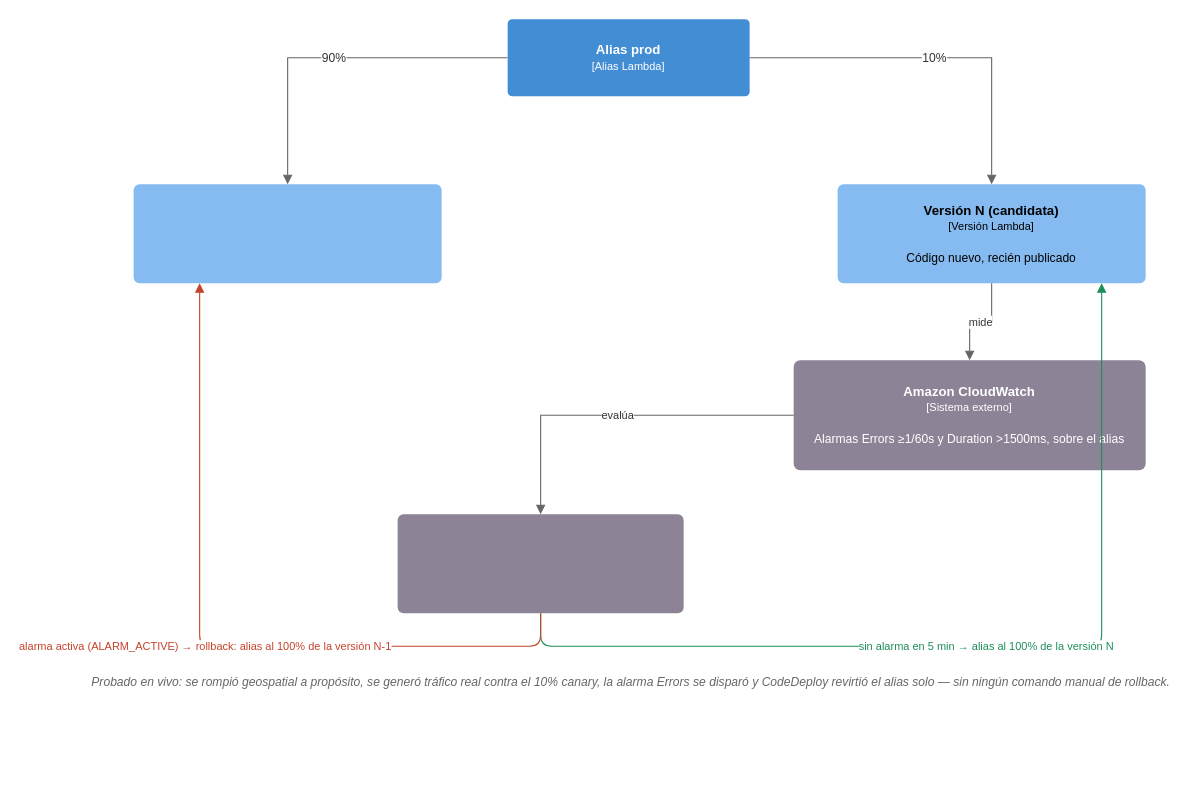
Image size: 1189x785. Some labels were removed from this diagram. Each missing label, with the centre of its shape:
AWS CodeDeploy [Sistema externo] Controla el corrimiento del alias: point (540, 563)
Versión N-1 (estable) [Versión Lambda] Código en producción: point (287, 233)
